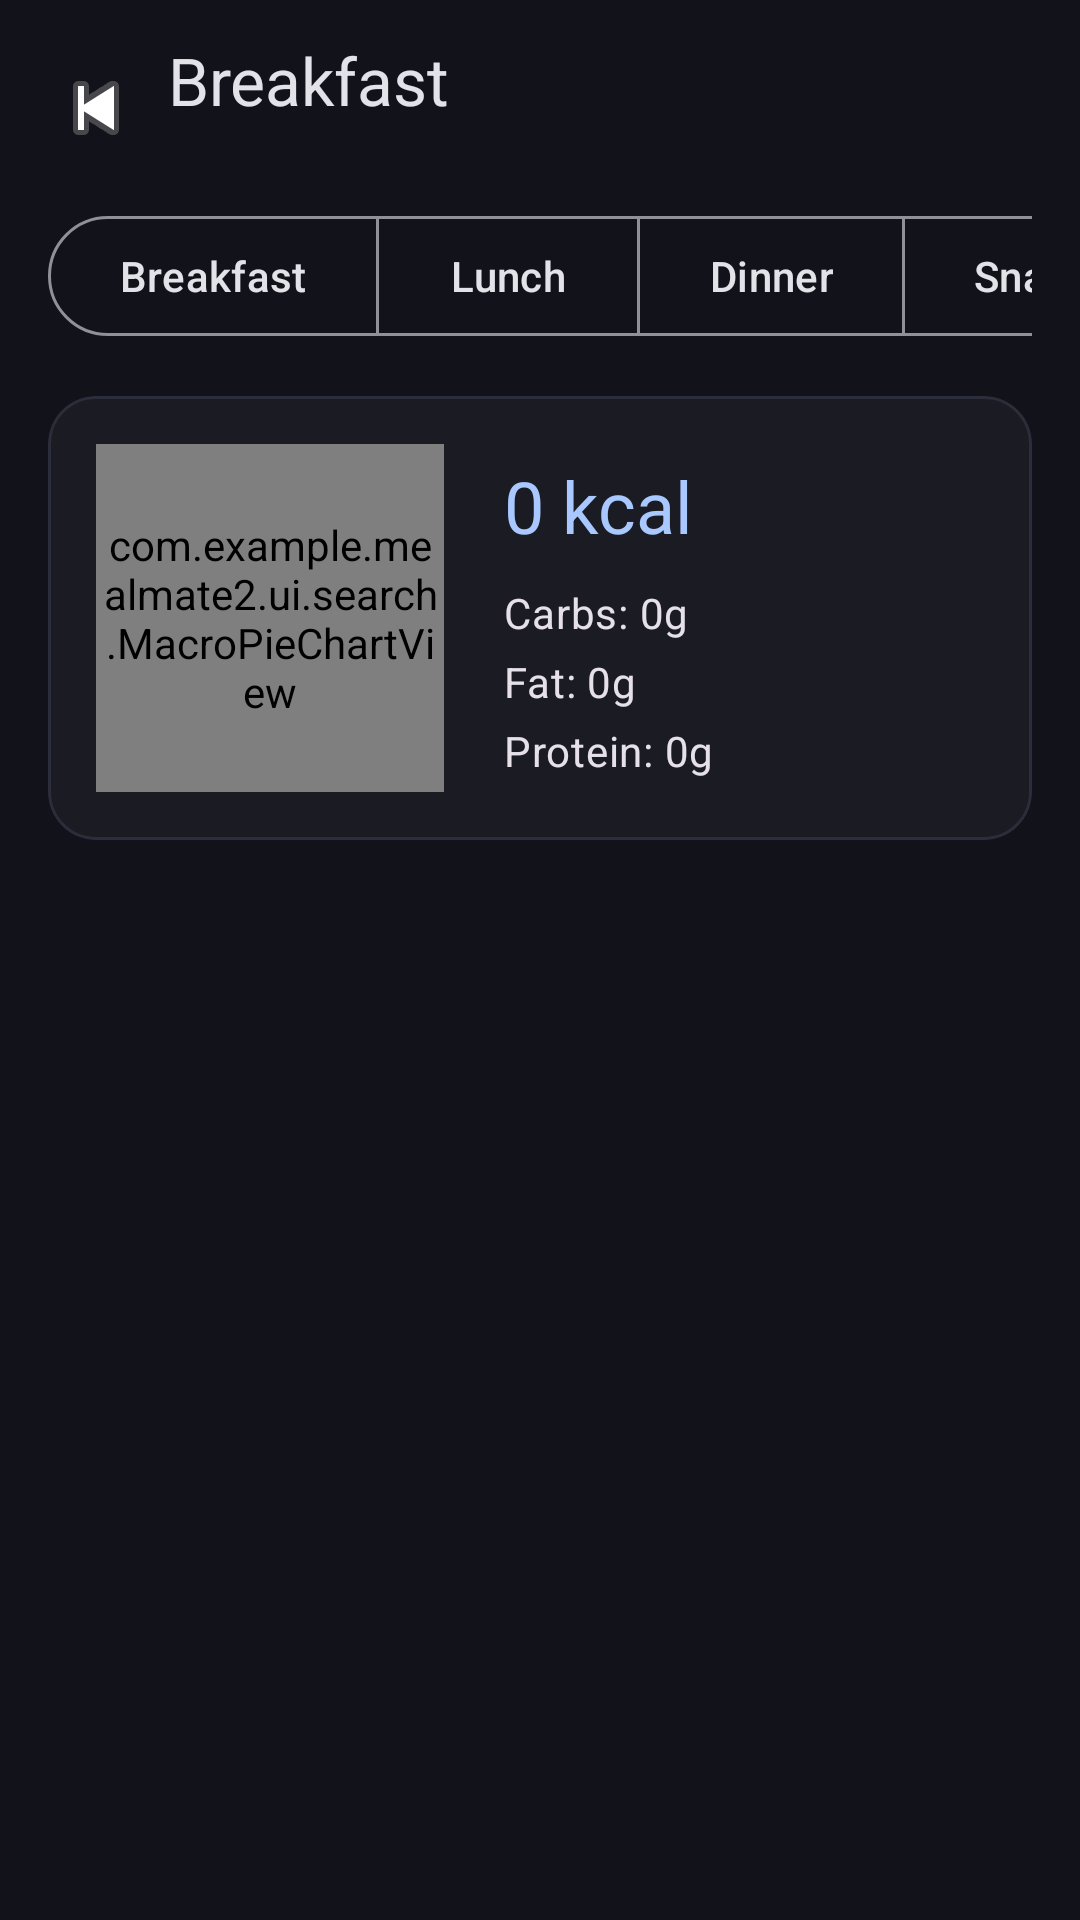

Named icons in this screenshot (1080 × 1920) and their bounding boxes, {"x1": x1, "y1": y1, "x2": x2, "y2": y2}:
Back: {"x1": 73, "y1": 81, "x2": 119, "y2": 135}
